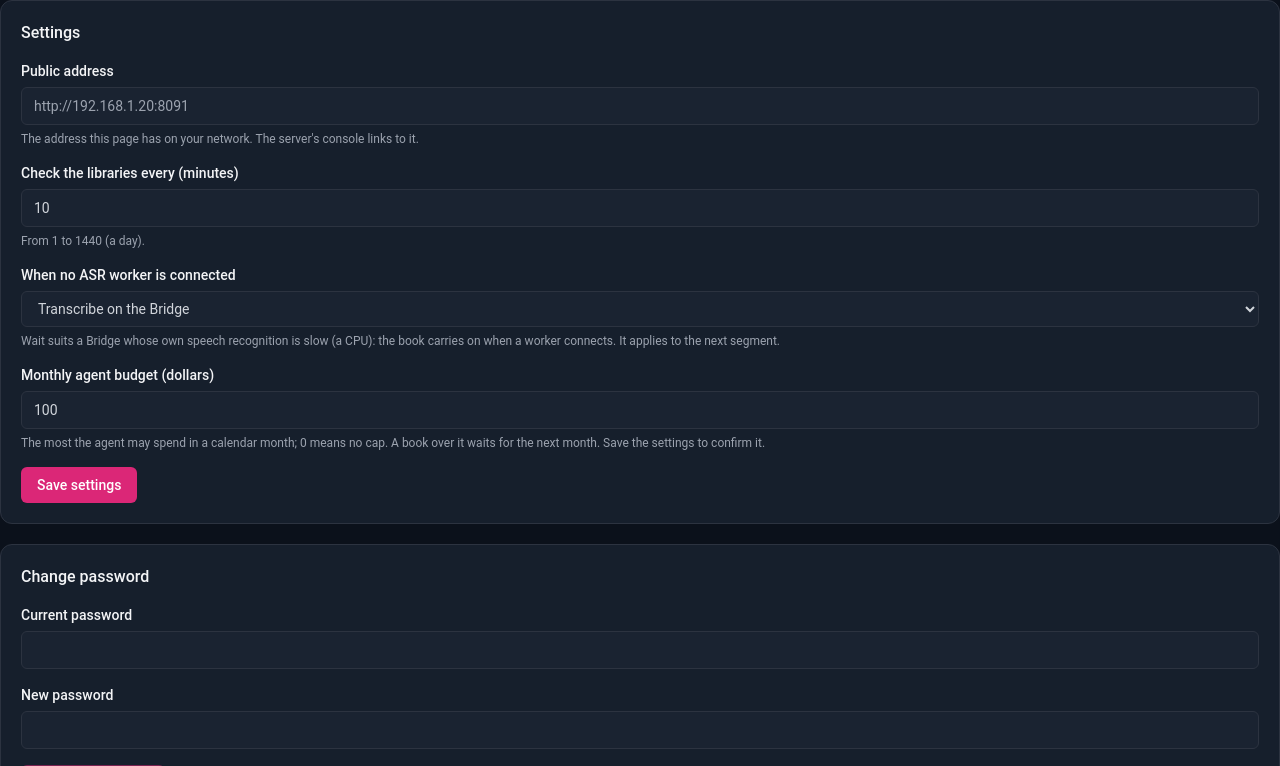
Test: SettingsTab › saves the monthly budget, which reviews it, and keeps a locked one out
expect the text "Save the settings to confirm it" is shown: met, box [21, 436, 765, 450]
Replace the text in the field labelled "Monthly agent budget (dollars)" with "lots" at (640, 410), box [21, 391, 1259, 429]
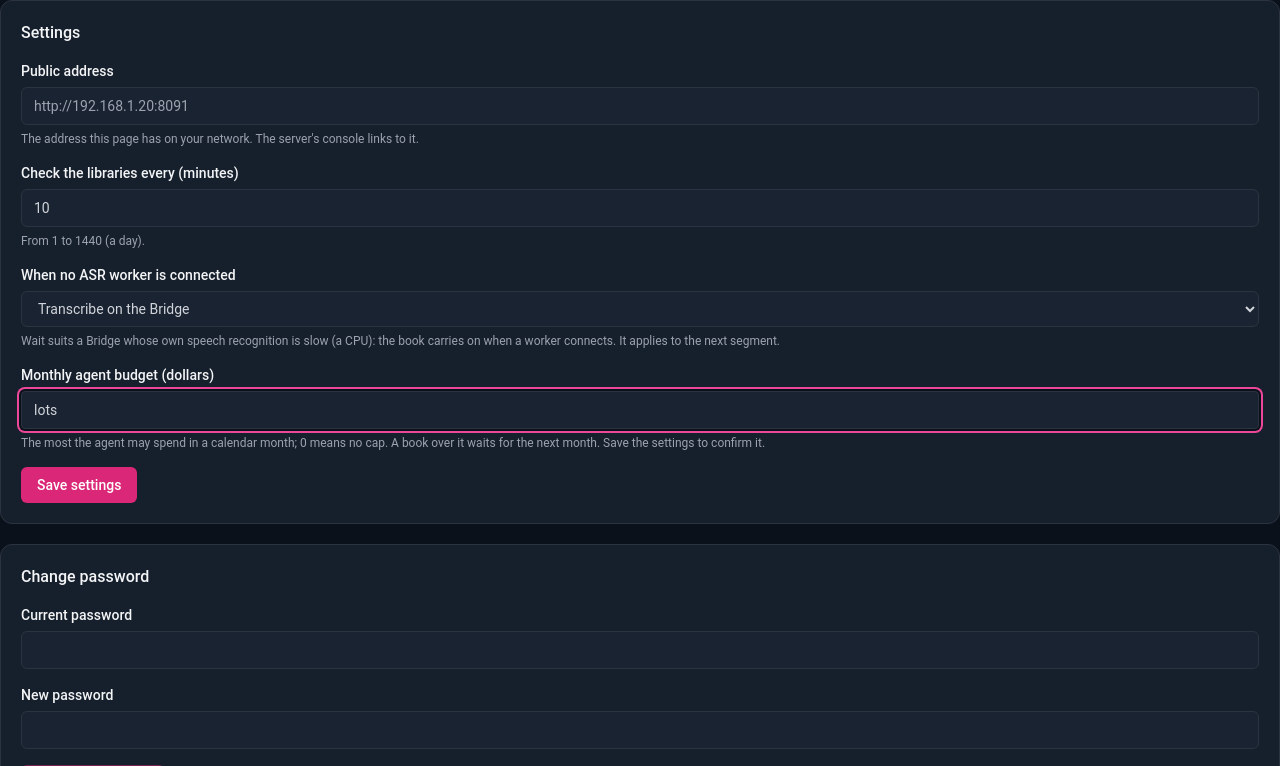
Click the button "Save settings" at (79, 485), box [21, 467, 137, 503]
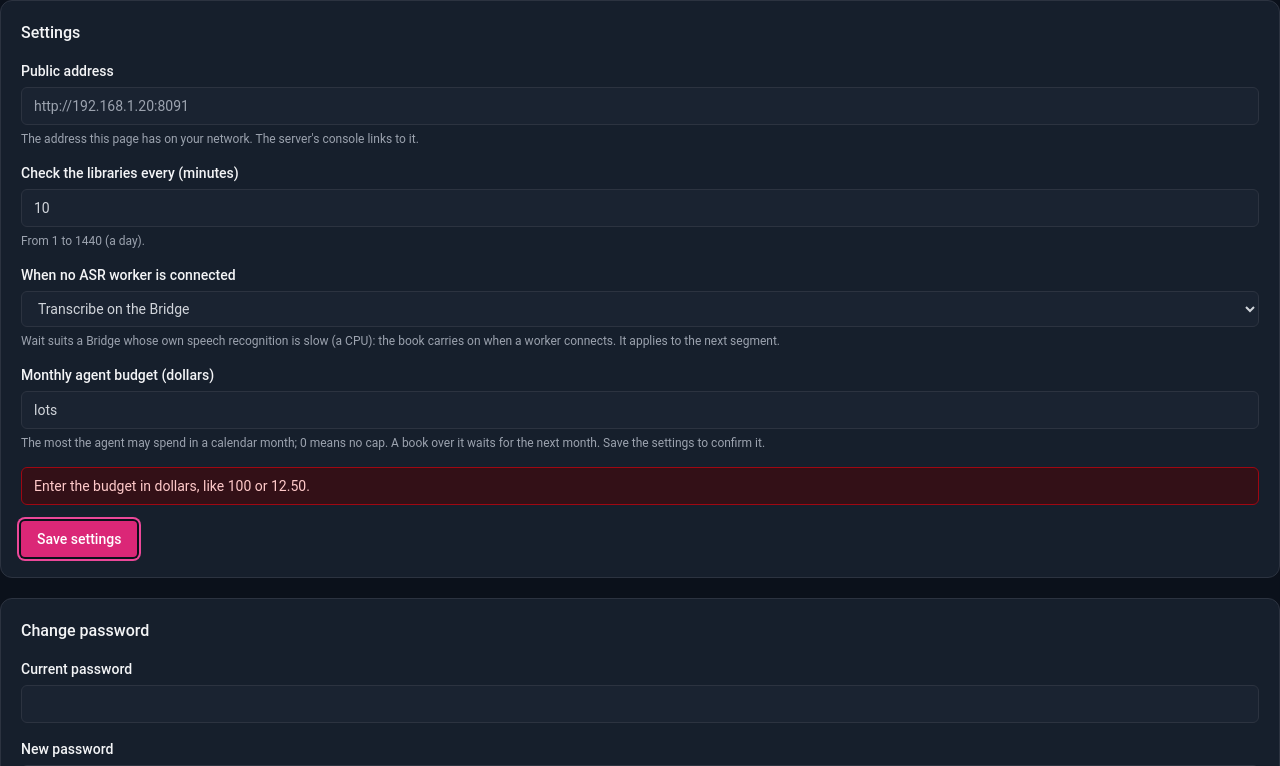
expect the message shows "Enter the budget in dollars": met, box [34, 478, 310, 494]
Replace the text in the field labelled "Monthly agent budget (dollars)" with "25" at (640, 410), box [21, 391, 1259, 429]
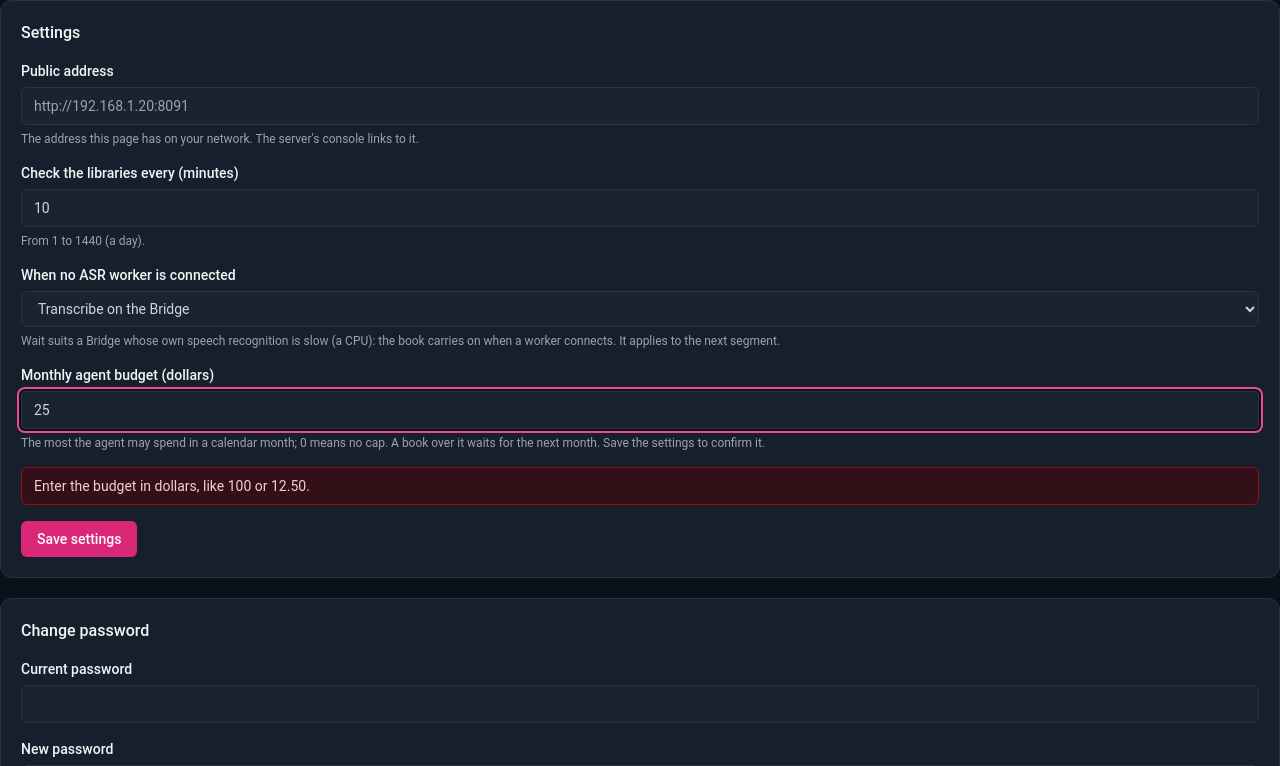
Click the button "Save settings" at (79, 539), box [21, 521, 137, 557]
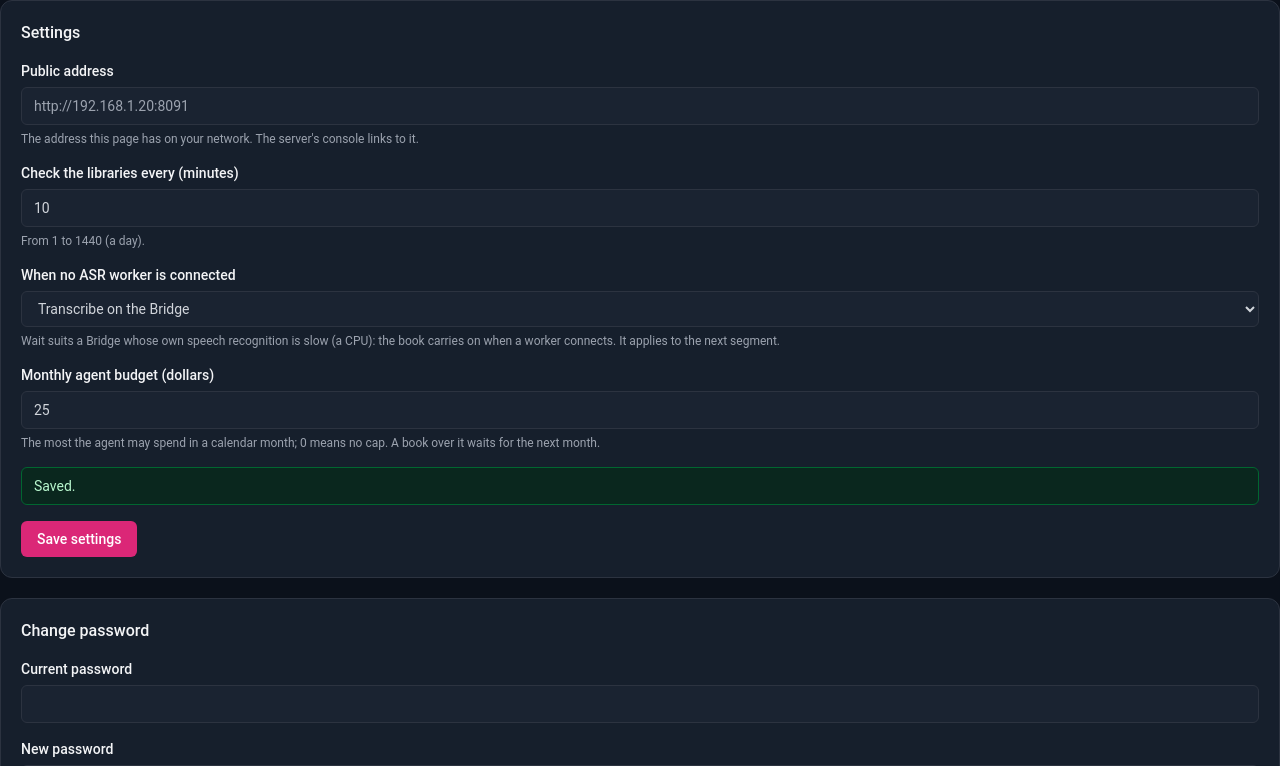
expect the text "Saved." is shown: met, box [21, 467, 1259, 505]
expect the text "Save the settings to confirm it" is gone: met
